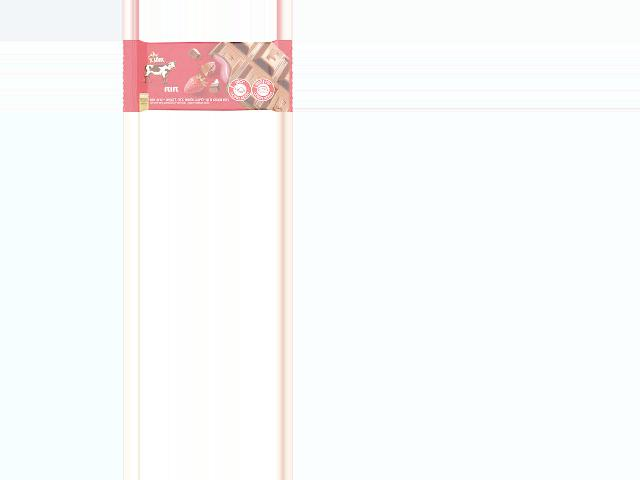chocolate: (121, 40, 292, 112)
